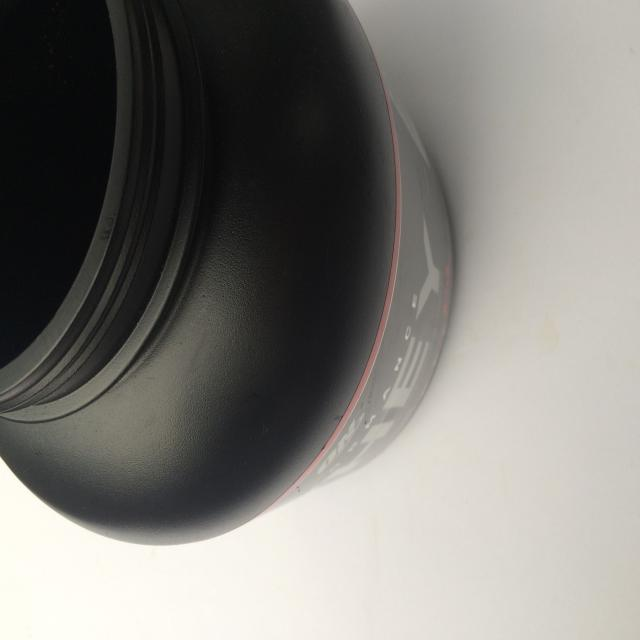plastic: (0, 0, 455, 546)
